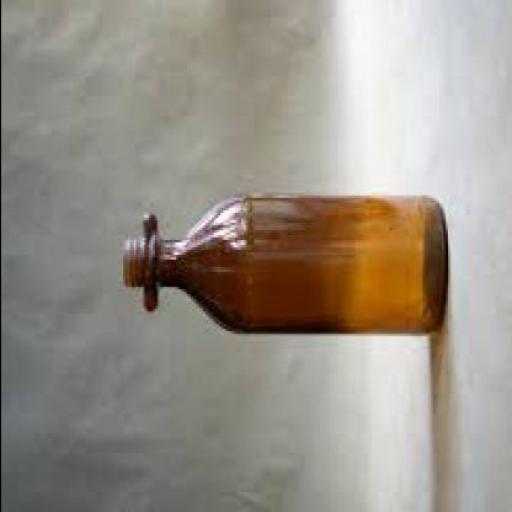glass: (122, 196, 445, 336)
metal: (118, 238, 137, 286)
